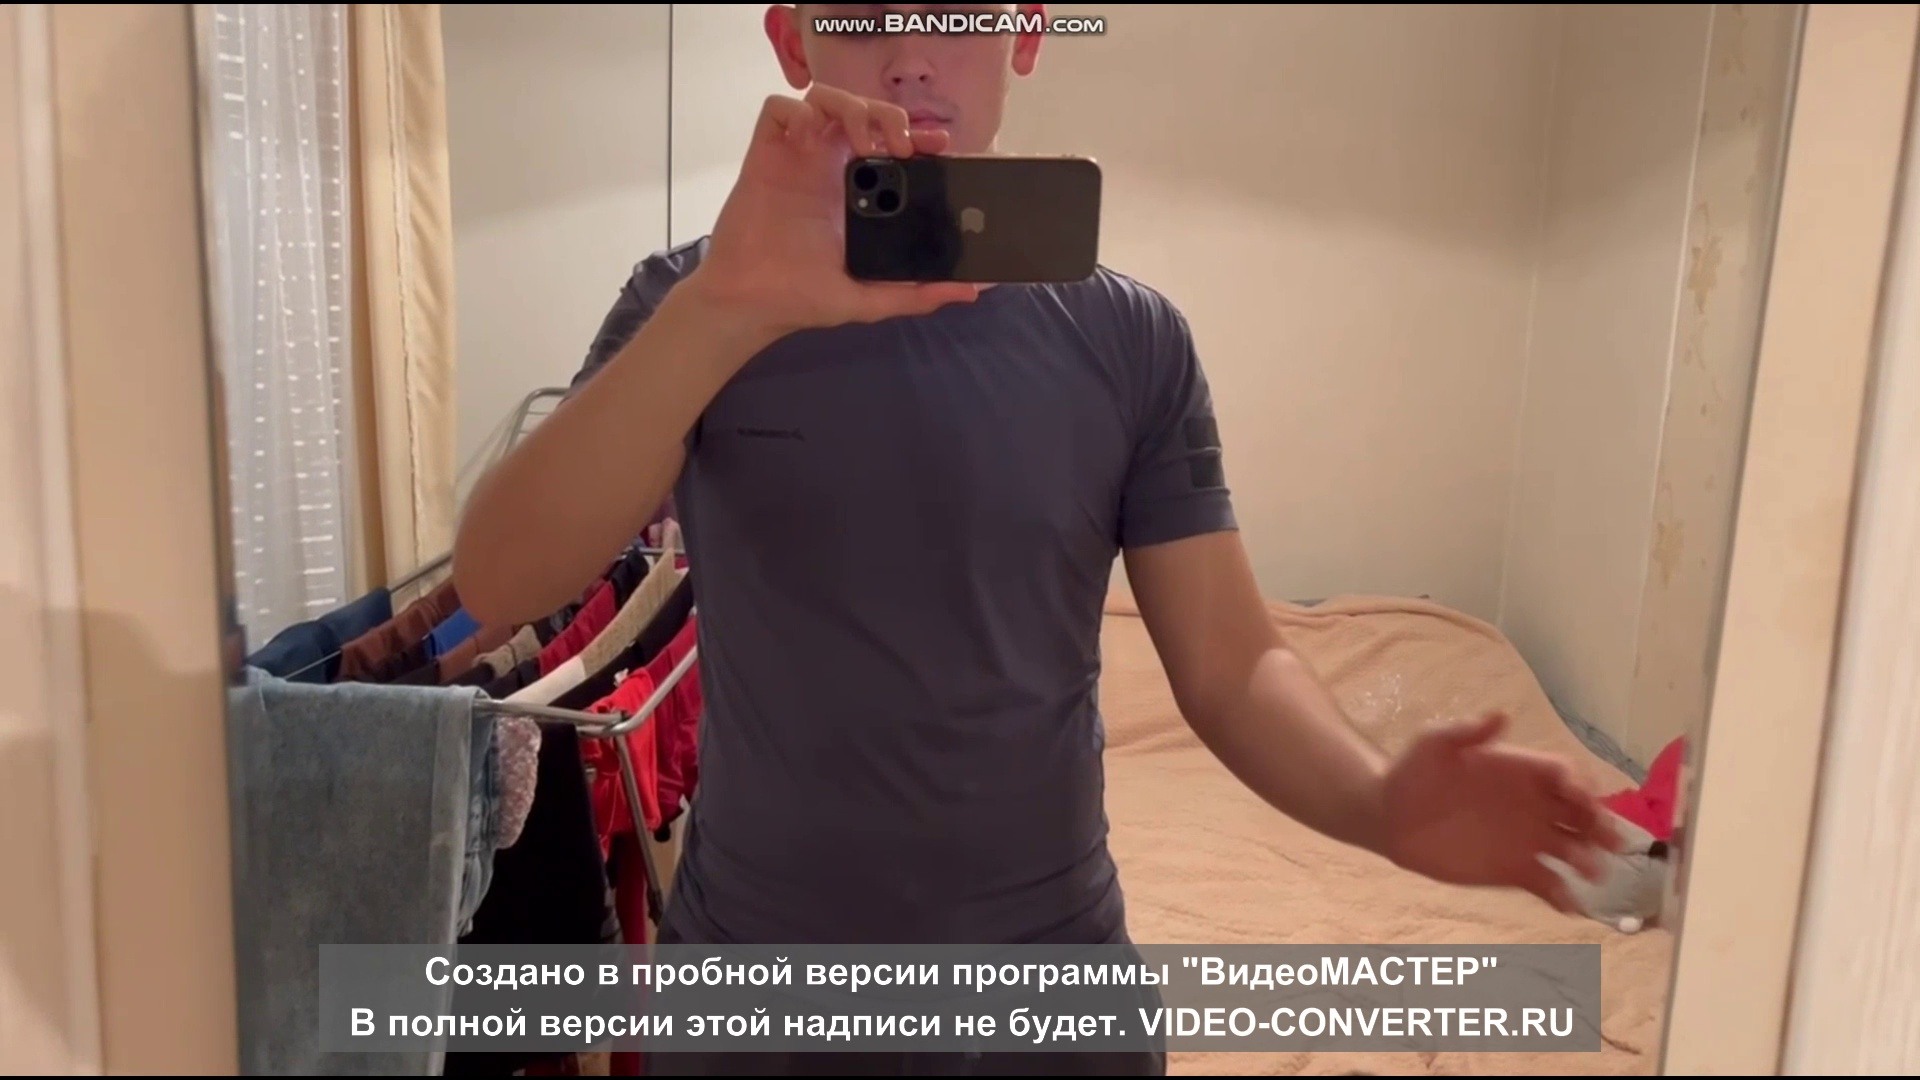Ладонь: (1383, 703, 1627, 914)
